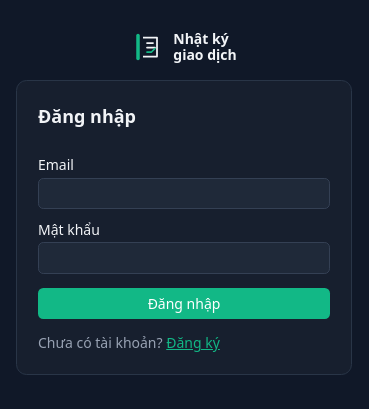
Scenario: hiện NGUYÊN VĂN msg của backend khi sai mật khẩu
expect the heading "Đăng nhập" is shown: met, box [38,104,136,128]
Type "toi@example.com" into the field labelled "Email" at [184, 193], box [38,178,330,209]
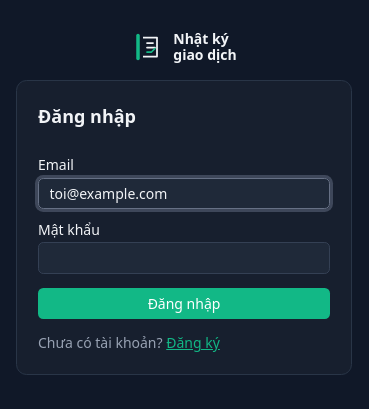
Type "matkhausai" into the password field labelled "Mật khẩu" at [184, 258], box [38,242,330,274]
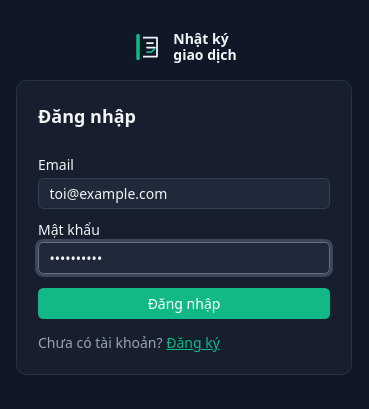
Click the button "Đăng nhập" at [184, 304], box [38,288,330,319]
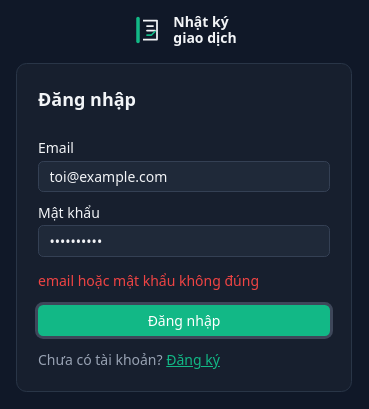
expect the text "email hoặc mật khẩu không đúng" is shown: met, box [38,271,259,290]
